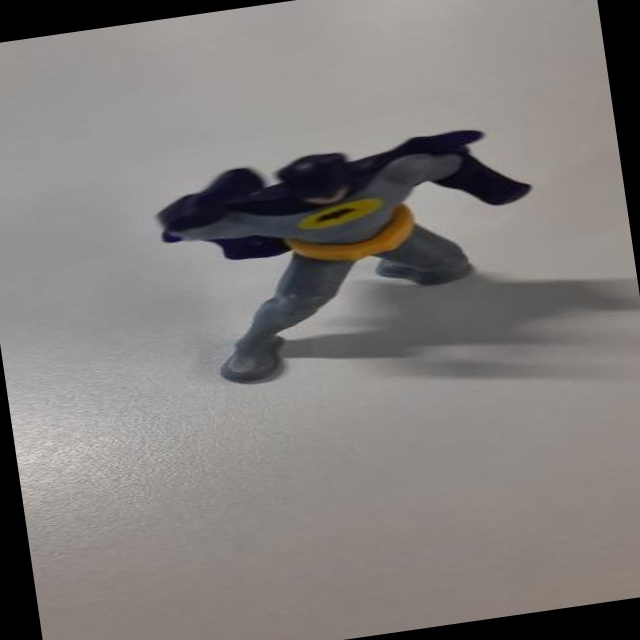Batman: (124, 103, 577, 431)
